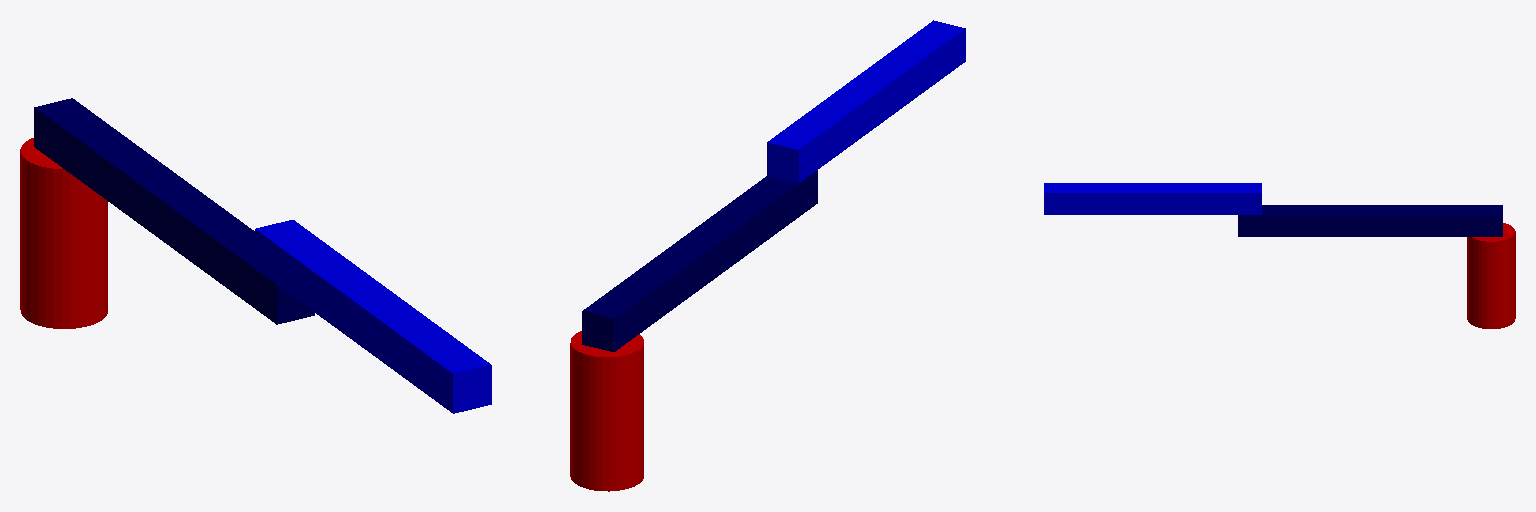
robot.urdf — planar_2R_robot:
<?xml version="1.0"?>
<robot name="planar_2R_robot">

<!-- simple two-axis scara robot -->


<material name="blue">
  <color rgba="0 0 0.4 1"/>
</material>

<material name="light_blue">
  <color rgba="0.0 0.0 0.9 1"/>
</material>

<material name="red">
  <color rgba="0.8 0 0 1"/>
</material>



<!-- world link -->
<!-- <link name="world"/> -->

<!-- base_link and its fixed joint -->
<!-- <joint name="joint_fix" type="fixed"> -->
  <!-- <parent link="world"/> -->
  <!-- <child link="base_link"/> -->
<!-- </joint> -->

<link name="base_link">
  <collision>
    <origin xyz="0 0 0.2" rpy="0 0 0"/>
    <geometry>
      <cylinder length="0.4" radius="0.1"/>
    </geometry>
  </collision>

  <visual>
    <origin xyz="0 0 0.2" rpy="0 0 0"/>
    <geometry>
      <cylinder length="0.4" radius="0.1"/>
    </geometry>
    <material name="red" />
  </visual>

  <inertial>
    <origin xyz="0 0 0.2" rpy="0 0 0"/>
    <mass value="1"/>
    <inertia
      ixx="1.0" ixy="0.0" ixz="0.0"
      iyy="1.0" iyz="0.0"
      izz="1.0"/>
  </inertial>
</link>


<!-- the first arm of the scara, with revolute joint rotating along z axis -->
<!-- arm length between two rotation axis is 1 -->
<joint name="rotation1" type="revolute">
  <parent link="base_link"/>
  <child link="arm1"/>
  <origin xyz="0 0 0.4" rpy="0 0 0"/>
  <axis xyz="0 0 1"/>
  <limit effort="100" velocity="10" lower="-3.14" upper="3.14"/>
</joint>

<link name="arm1">
  <collision>
    <origin xyz="0 -0.5 0.05" rpy="0 0 0"/>
    <geometry>
      <box size="0.1 1.1 0.1"/>
    </geometry>
  </collision>

  <visual>
    <origin xyz="0 -0.5 0.05" rpy="0 0 0"/>
    <geometry>
      <box size="0.1 1.1 0.1"/>
    </geometry>
    <material name="blue" />
  </visual>

  <inertial>
    <origin xyz="0 0 0.05" rpy="0 0 0"/>
    <mass value="1"/>
    <inertia
      ixx="0.001" ixy="0.0" ixz="0.0"
      iyy="0.001" iyz="0.0"
      izz="0.001"/>
  </inertial>
</link>


<!-- the second arm and its rotation joint -->
<!-- arm length between two rotation axis is 0.8 -->
<joint name="rotation2" type="revolute">
  <parent link="arm1"/>
  <child link="arm2"/>
  <origin xyz="0 -1 0.1" rpy="0 0 0"/>
  <axis xyz="0 0 1"/>
  <limit effort="1000" velocity="1000" lower="-3.00" upper="3.00"/>
</joint>

<link name="arm2">
  <collision>
    <origin xyz="0 -0.4 0.05" rpy="0 0 0"/>
    <geometry>
      <box size="0.1 0.9 0.1"/>
    </geometry>
  </collision>

  <visual>
    <origin xyz="0 -0.4 0.05" rpy="0 0 0"/>
    <geometry>
      <box size="0.1 0.9 0.1"/>
    </geometry>
    <material name="light_blue" />
  </visual>

  <inertial>
    <origin xyz="0 0 0.05" rpy="0 0 0"/>
    <mass value="1"/>
    <inertia
      ixx="0.001" ixy="0.0" ixz="0.0"
      iyy="0.001" iyz="0.0"
      izz="0.001"/>
  </inertial>
</link>

</robot>

--- Facts derived from the render (not from the file) ---
Views: 3 orthographic renders of the robot side by side, from view 1: azimuth 30°, elevation 25°; view 2: azimuth 150°, elevation 25°; view 3: azimuth 270°, elevation 25°.
Model planar_2R_robot with 3 links and 2 joints (2 revolute), rooted at base_link, posed every joint at zero.
Links seen in each view (by area): view 1: arm1, arm2, base_link; view 2: arm1, arm2, base_link; view 3: arm1, arm2, base_link.
Link boxes in pixels (x1,y1,x2,y2): arm1: (34, 98, 314, 324); arm2: (255, 220, 491, 413); base_link: (20, 138, 107, 328); arm1: (582, 170, 817, 351); arm2: (767, 20, 965, 182); base_link: (570, 331, 643, 491); arm1: (1238, 205, 1502, 236); arm2: (1044, 183, 1261, 214); base_link: (1467, 223, 1515, 328).
Bounding box of the posed robot: 0.2 × 1.95 × 0.6 m (x, y, z).
Geometry: primitives only (box / cylinder / sphere), no mesh files.